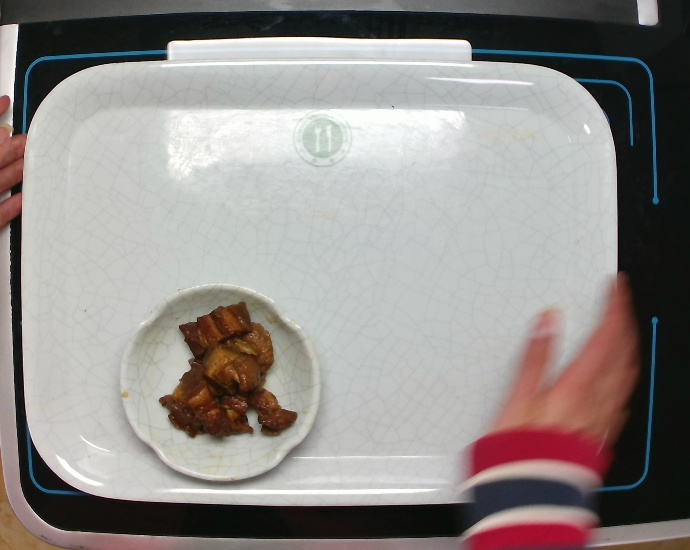JYsf-Ao_Yuan_Wan: (117, 280, 325, 484)
